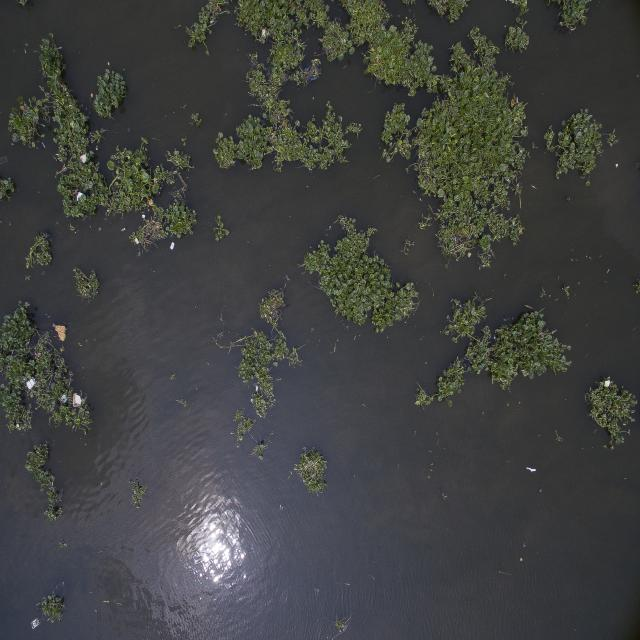plastic: (48, 309, 79, 354), (61, 389, 99, 416), (22, 373, 46, 399), (70, 186, 89, 210), (76, 145, 92, 169)
